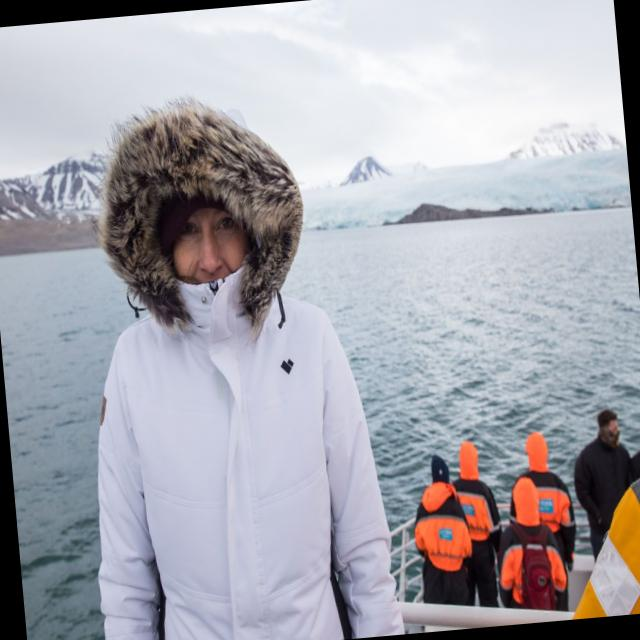Jacket: (67, 262, 402, 640), (567, 436, 640, 553), (492, 522, 576, 620), (407, 476, 472, 584), (500, 470, 580, 544), (441, 475, 498, 546)
